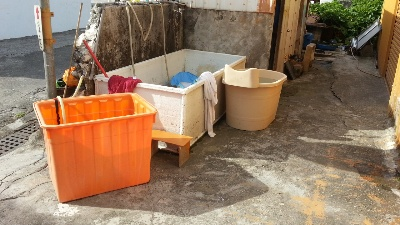box: (95, 49, 248, 151), (31, 91, 160, 203)
bucket: (224, 67, 289, 133)
